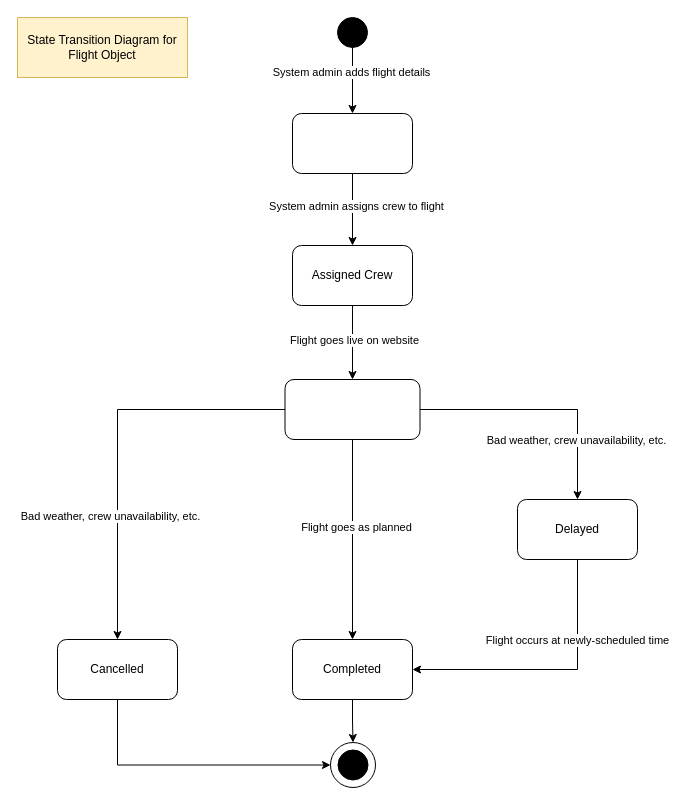
The diagram is 686 pixels wide and 805 high, and some of its shapes have lost their labels. The box of each missing label's shape, as (x1, y1, x2, y2) in pixels:
Available for Booking: (284, 378, 420, 440)
Scheduled: (292, 112, 412, 174)
